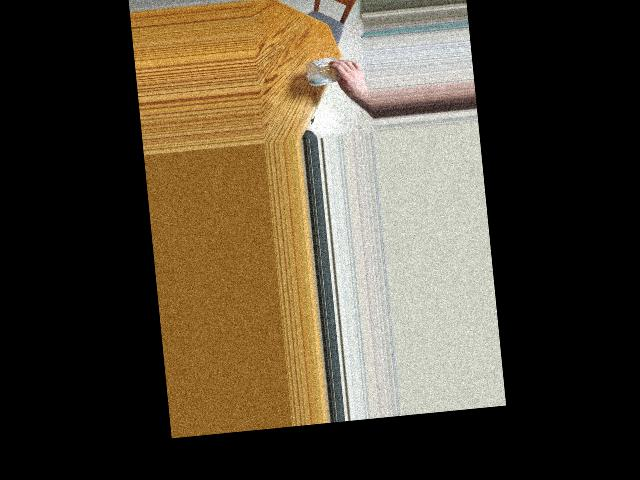cheese: (310, 52, 354, 90)
